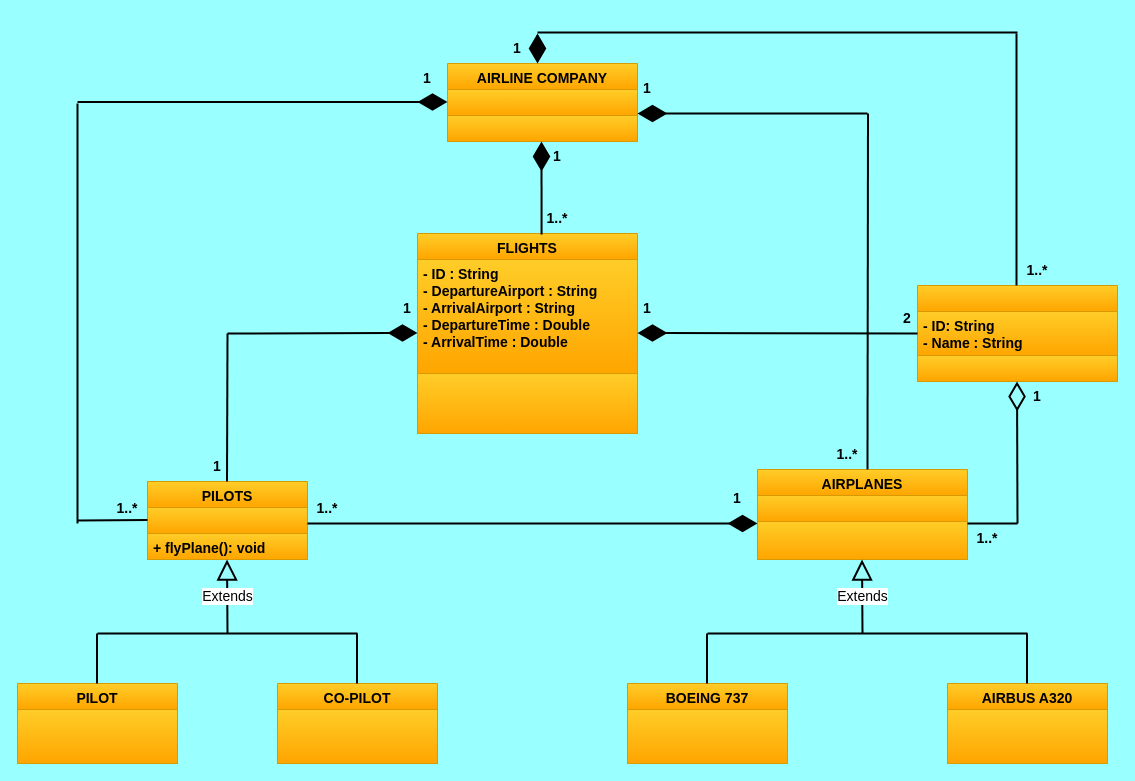
The diagram is 1135 pixels wide and 781 high, and some of its shapes have lost their labels. The shapes that lost their labels are listed below. From the top down, each one's box as (x1, y1, x2, y2) in pixels, then its label:
(446, 88, 638, 116): - ID: String
(446, 114, 638, 142): + makeFlights() : void
(916, 284, 1118, 382): AIRPORTS
(146, 506, 308, 534): - Experience : String
(756, 520, 968, 560): + isReadytoFlight(): boolean
